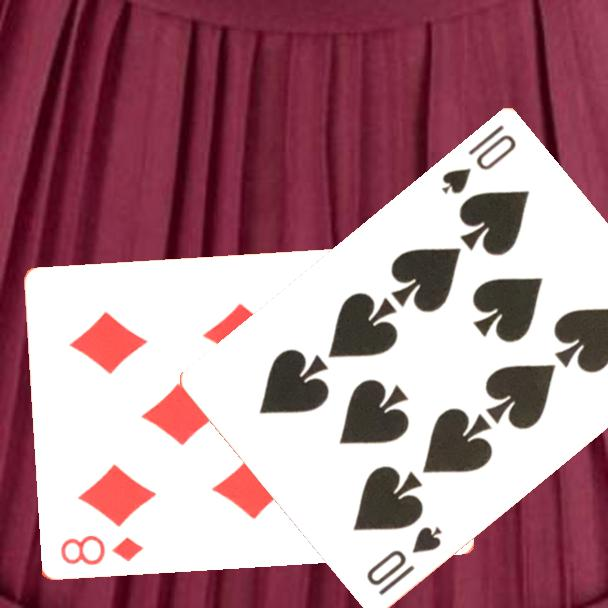d08: (56, 531, 145, 569)
s10: (362, 523, 445, 600), (438, 122, 520, 198)
